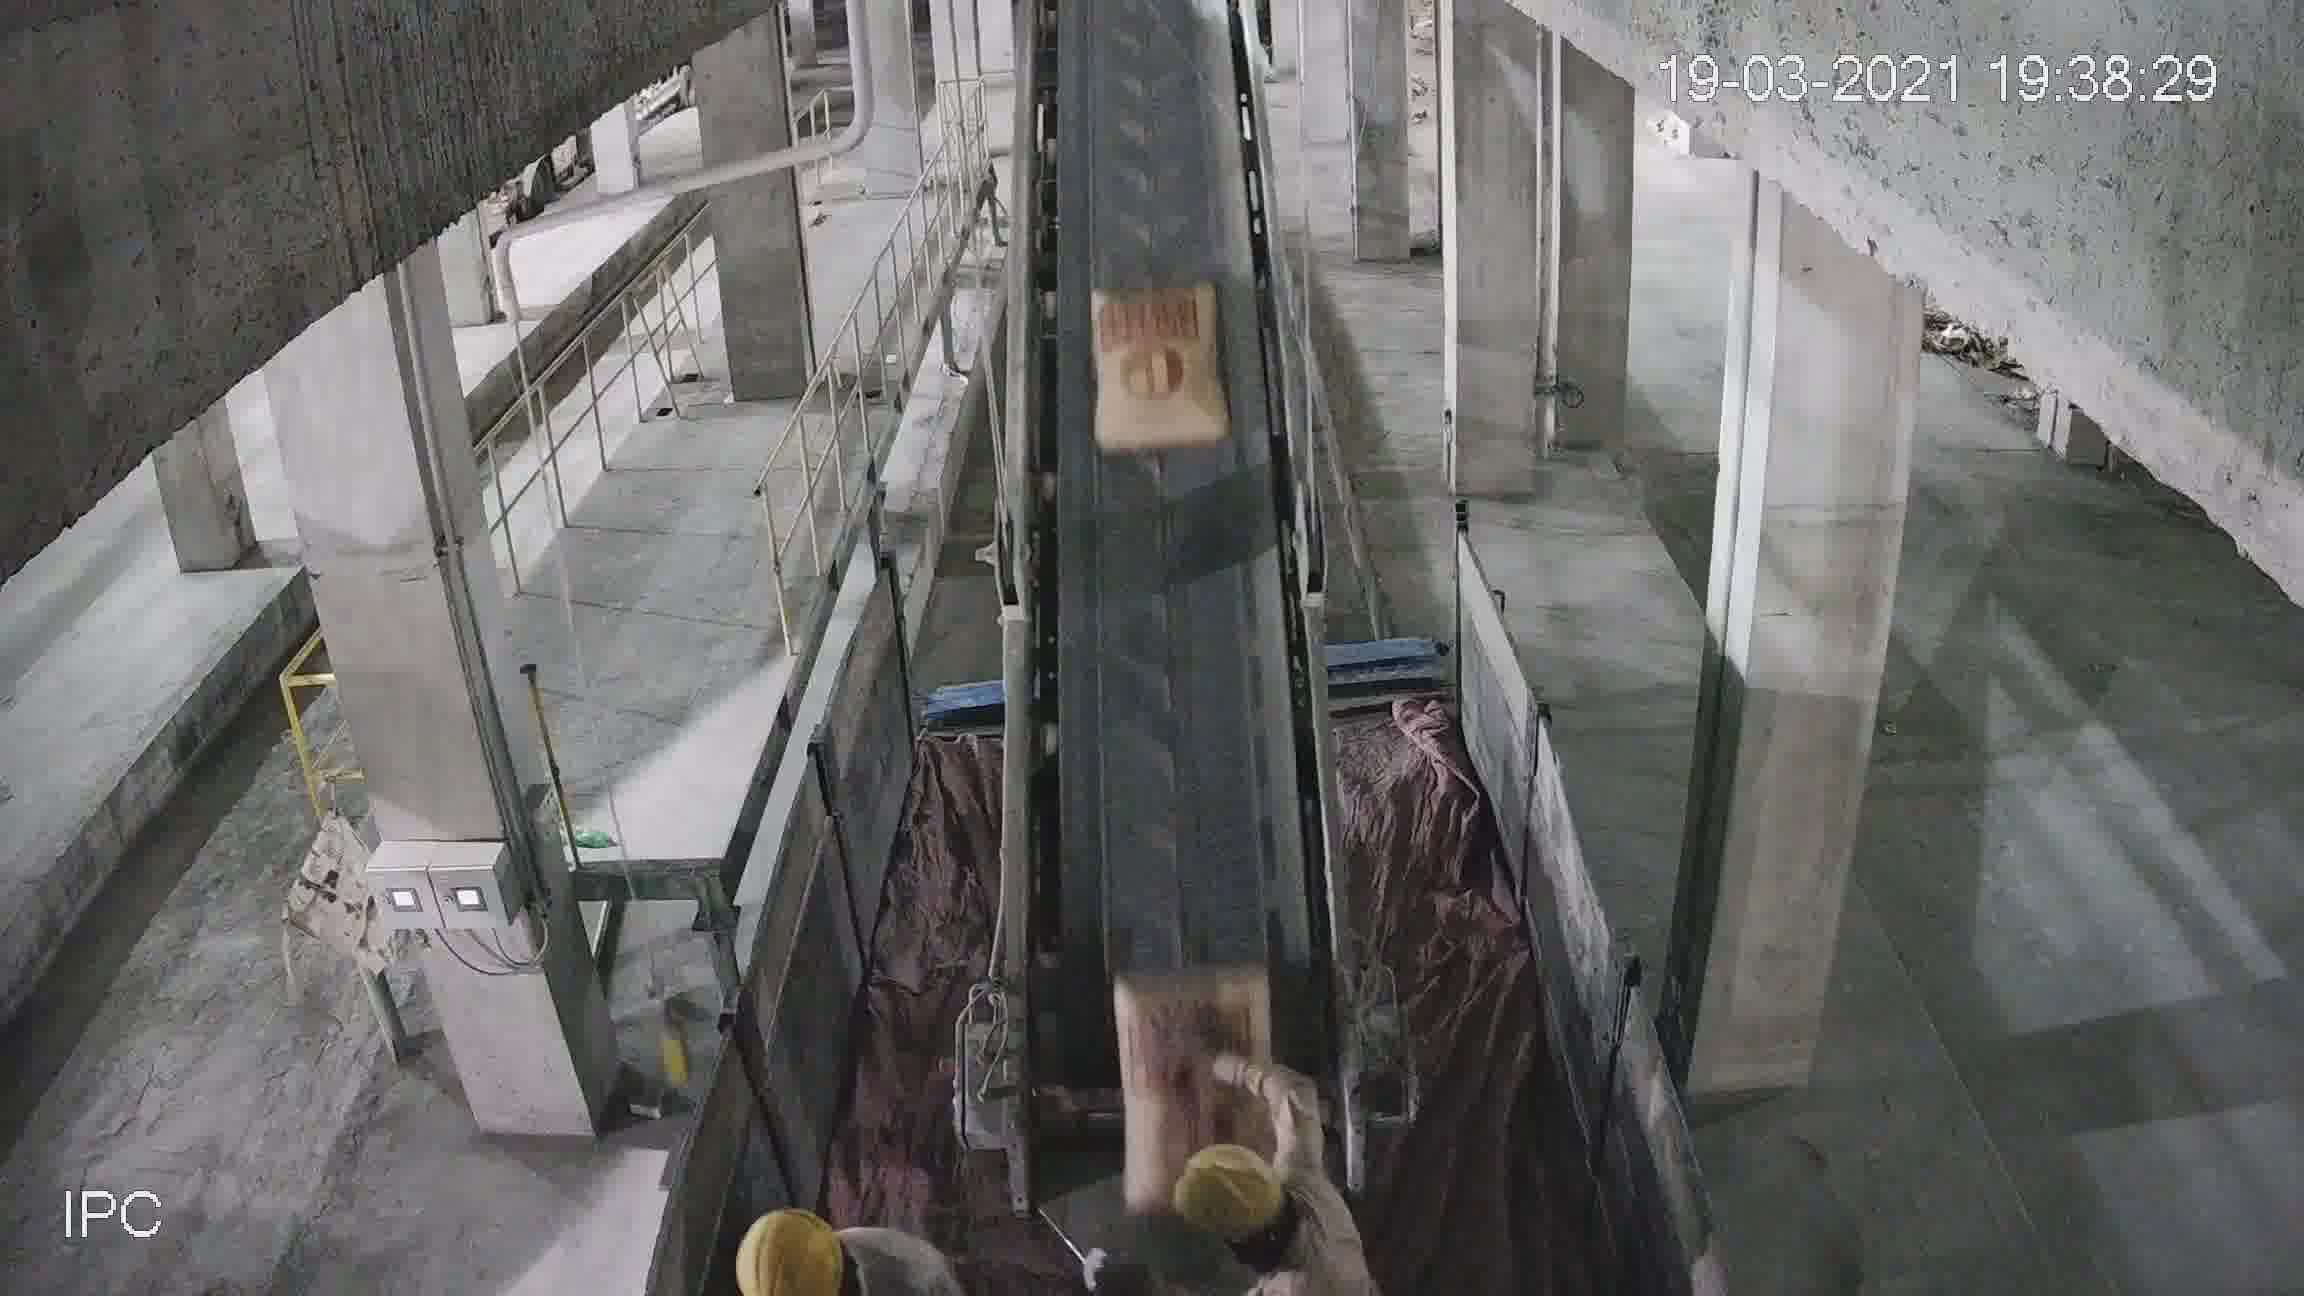bag: (1120, 961, 1268, 1131), (1093, 290, 1222, 453)
belt: (991, 44, 1358, 1147)
